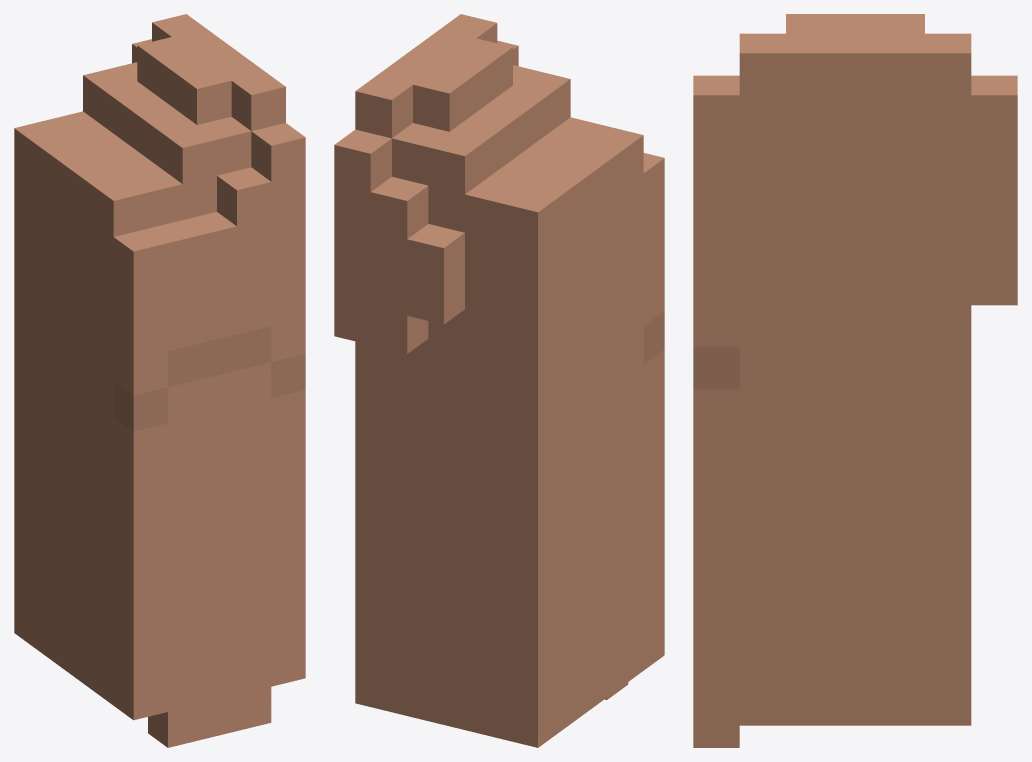
The model's file is Player0-1.obj.
The picture shows the model from 3 angles, left to right: view 1: azimuth 30°, elevation 25°; view 2: azimuth 150°, elevation 25°; view 3: azimuth 270°, elevation 25°; orthographic projection. The views are drawn at different scales.
Bounding box in the file's own units: 0.5 × 1.7 × 0.7.
Materials: 1 (1 with a texture image).
